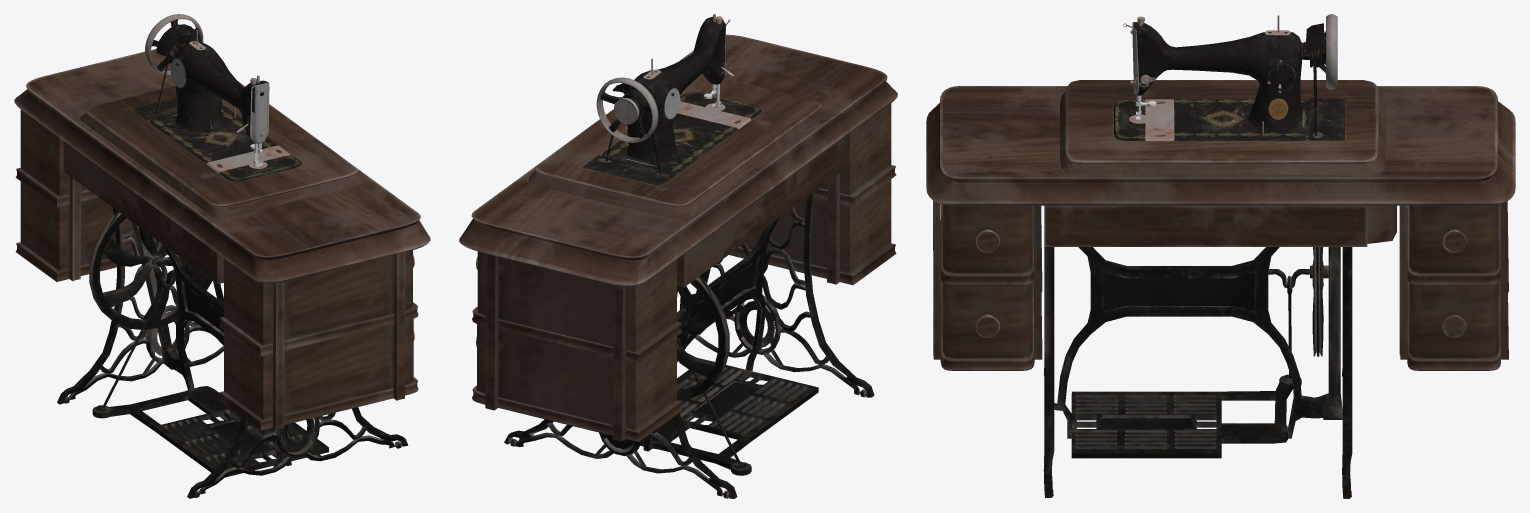
The model's file is sewing-machine-treadle.glb.
3 views of the same model, side by side, from view 1: azimuth 30°, elevation 25°; view 2: azimuth 150°, elevation 25°; view 3: azimuth 270°, elevation 25° (orthographic). The views are drawn at different scales.
Visible parts, largest first — view 1: sewing-machine-treadle; view 2: sewing-machine-treadle; view 3: sewing-machine-treadle.
Boxes of the visible parts, x1,y1,x2,y2 form: sewing-machine-treadle: [14, 14, 430, 498]; sewing-machine-treadle: [459, 14, 897, 498]; sewing-machine-treadle: [926, 14, 1515, 498].
Bounding box in the file's own units: 0.4957 × 0.8 × 1.01.
Materials: 2 (2 with a texture image).
